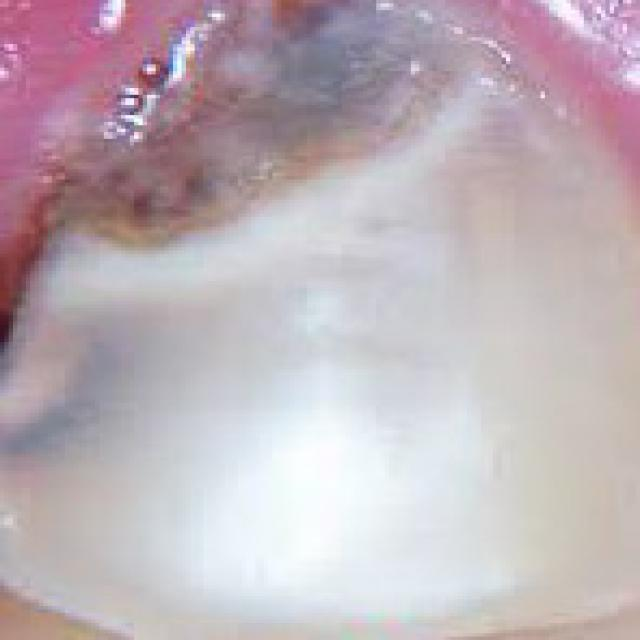caries: (29, 0, 433, 272)
